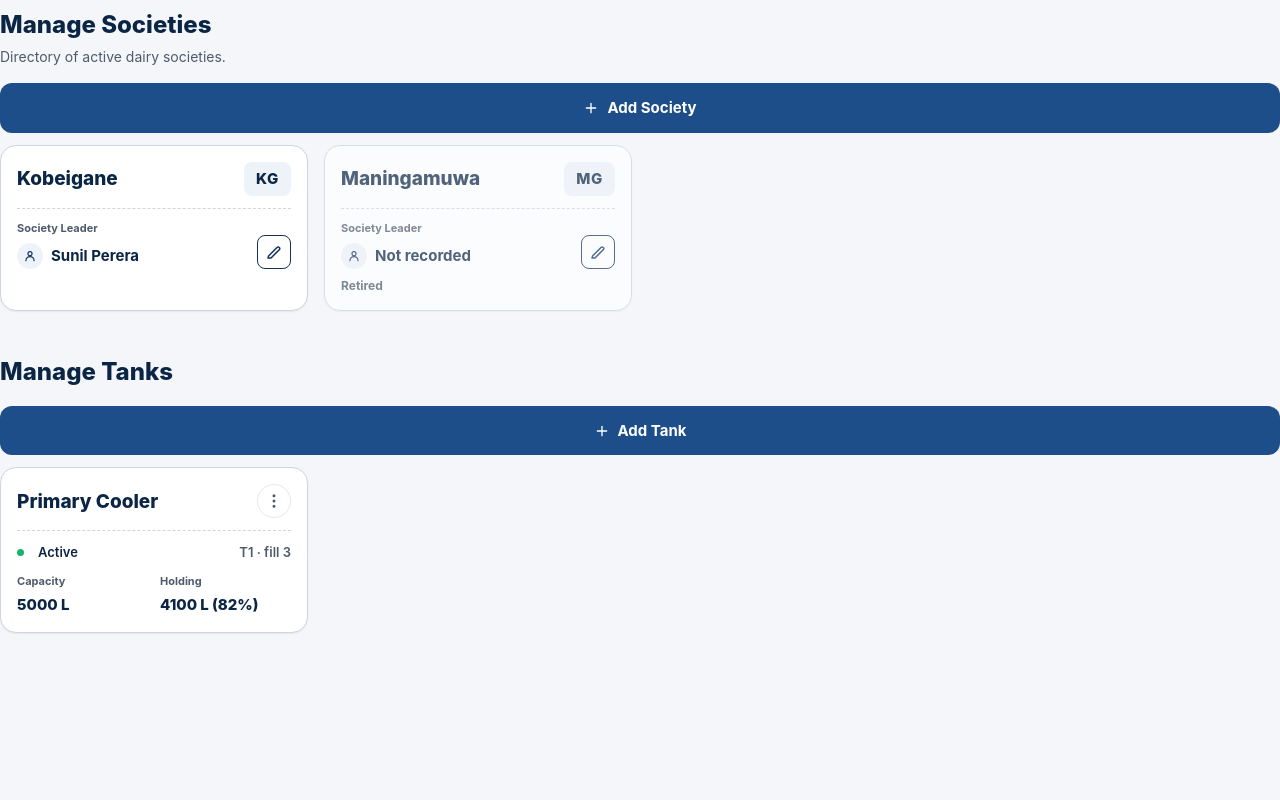
Test case: settings › offers tank management to a manager
Expected: the heading "Primary Cooler" is shown, [17,488,158,515]
Expected: the button "Add Tank" is shown, [0,406,1279,456]
Click the button named "Options for Primary Cooler".
click(274, 502)  # box [257,484,291,518]
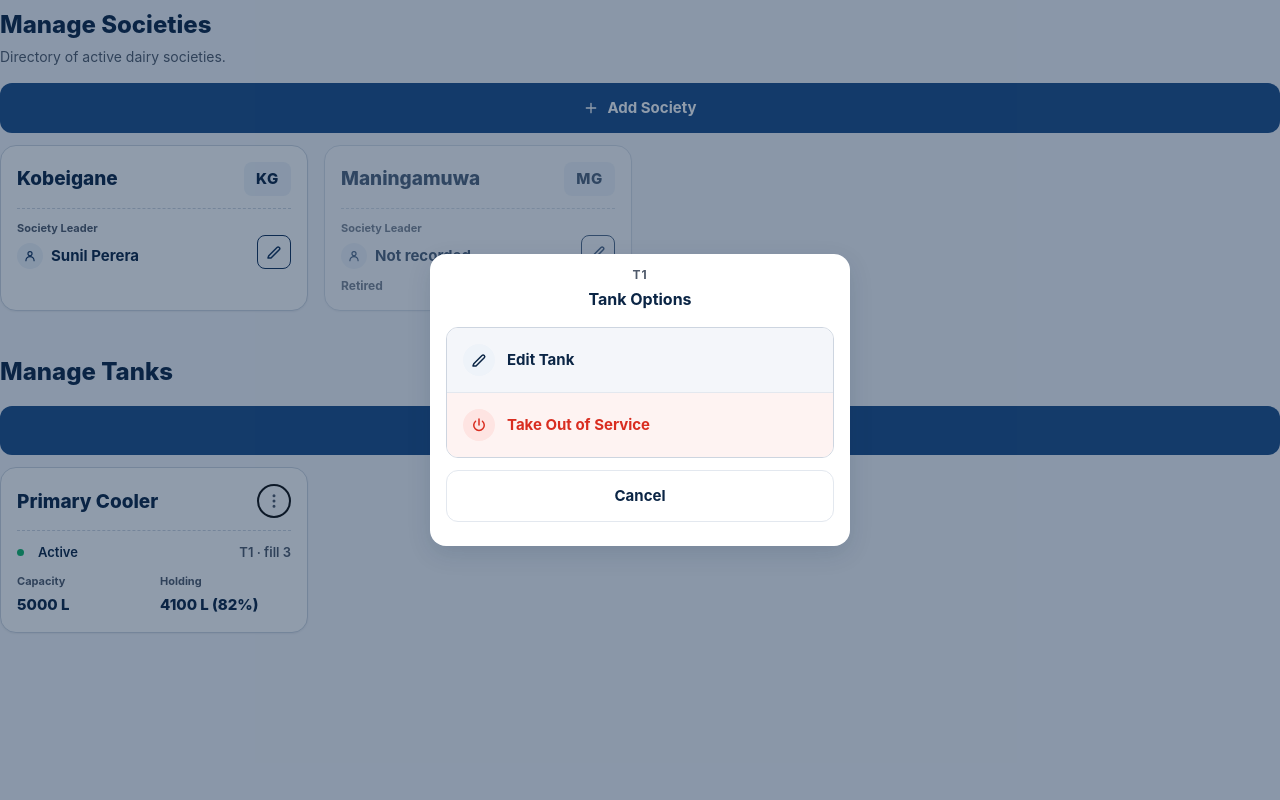
Expected: the button "Edit Tank" is shown, [447,328,833,393]
Expected: the button "Take Out of Service" is shown, [447,393,833,457]
